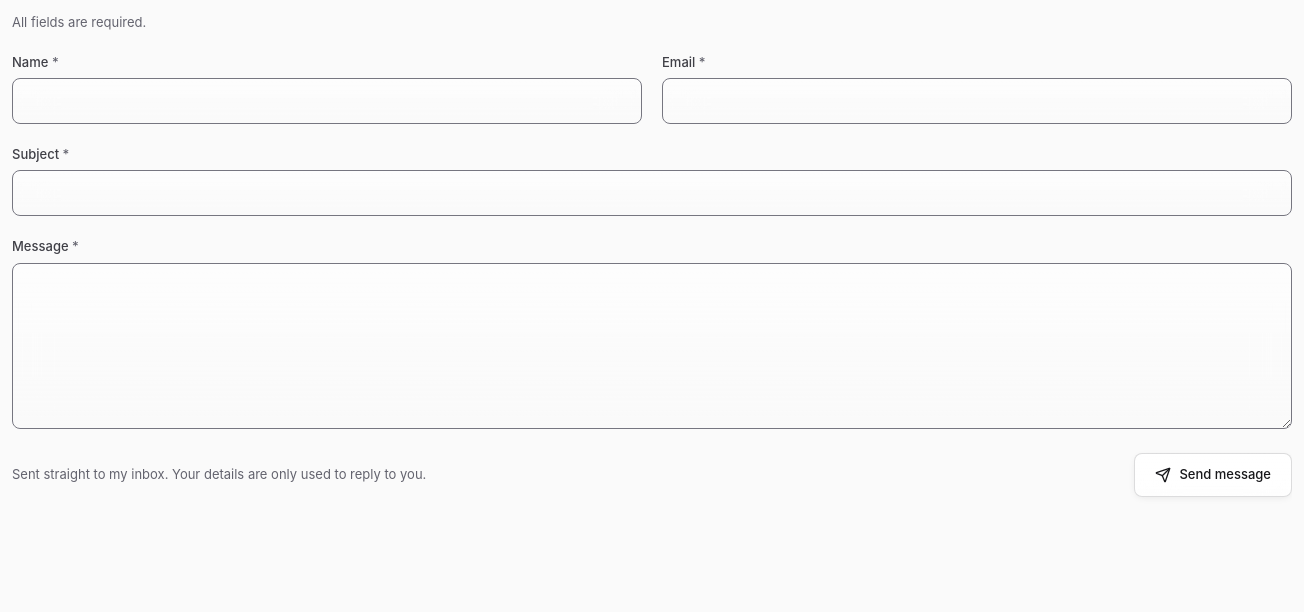
ContactForm › shows an error and keeps the message when sending fails
Type "Ada Lovelace" into the field labelled "Name *" at point(327, 101), box left=12, top=78, right=642, bottom=124
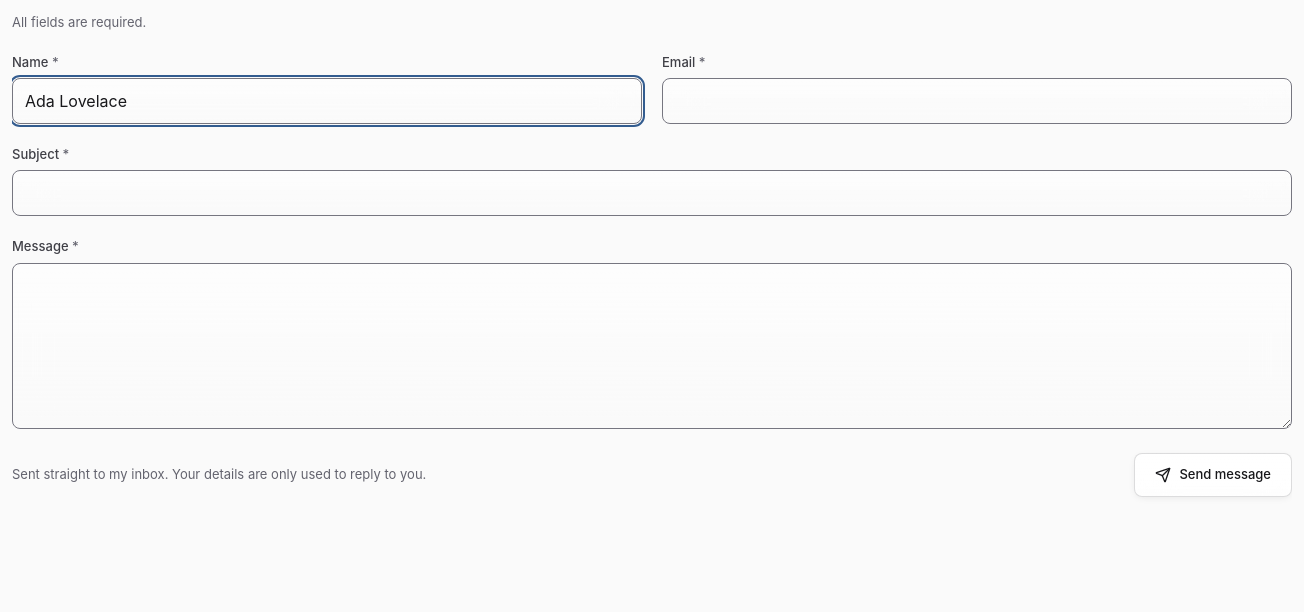
Type "ada@example.com" into the field labelled "Email *" at point(977, 101), box left=662, top=78, right=1292, bottom=124
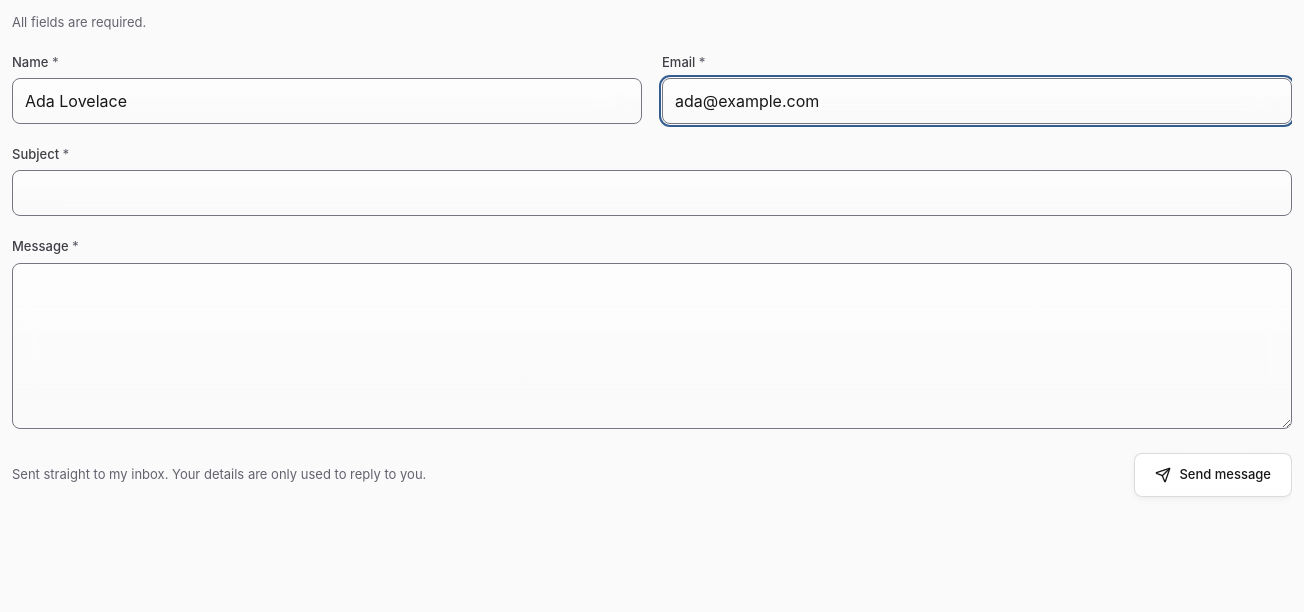
Type "Project" into the field labelled "Subject *" at point(652, 193), box left=12, top=170, right=1292, bottom=216
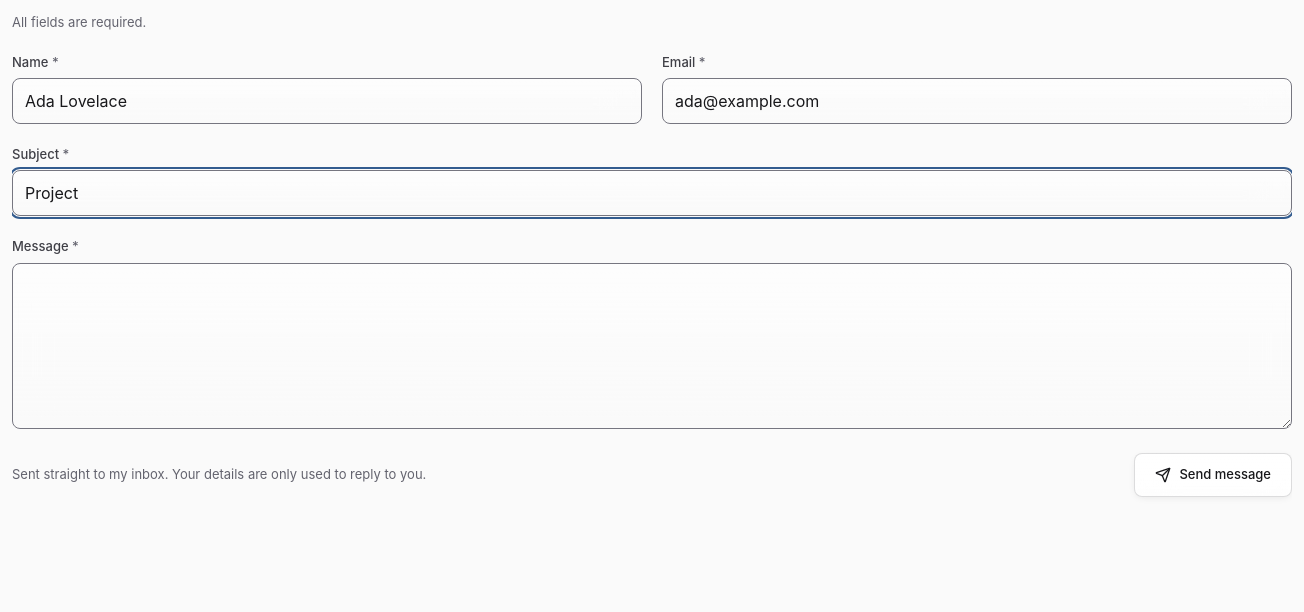
Type "I would like to discuss a project." into the text box labelled "Message *" at point(652, 346), box left=12, top=263, right=1292, bottom=429
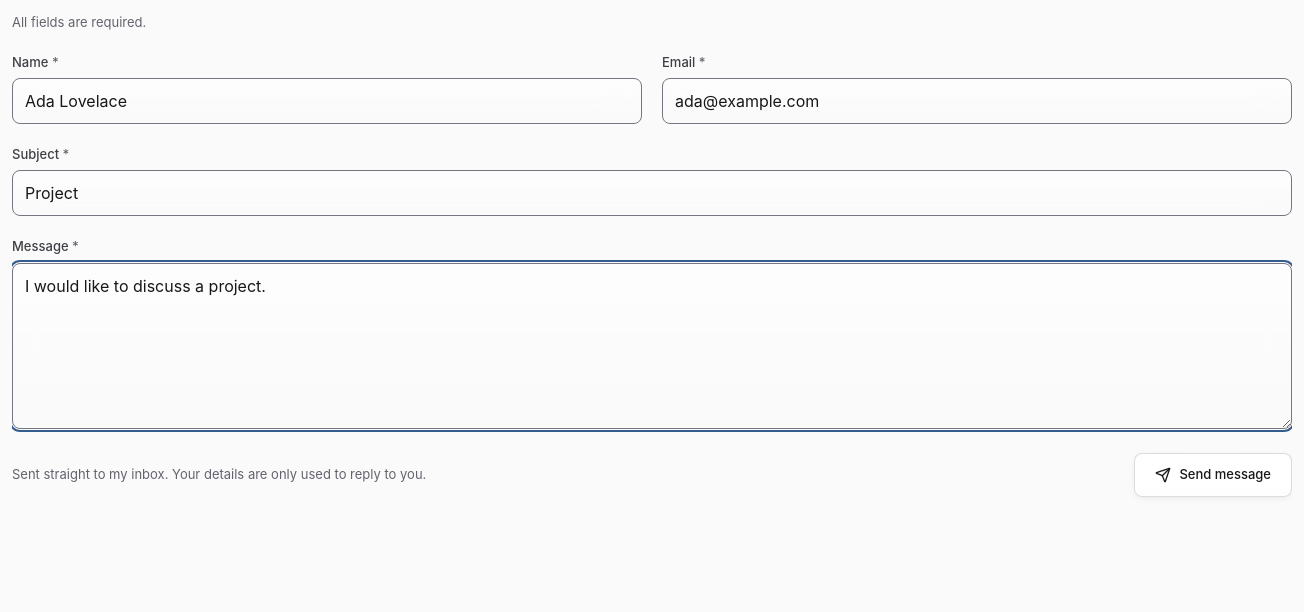
Click the button "Send message" at point(1213, 475), box left=1134, top=453, right=1292, bottom=497
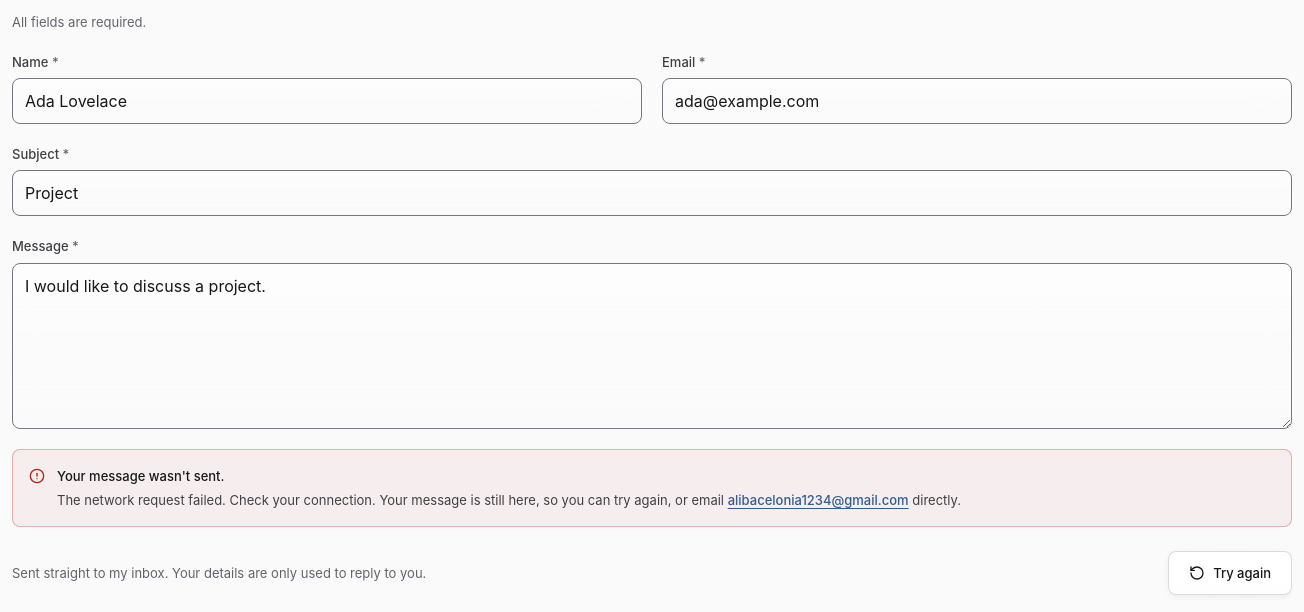
Expected: the message shows "wasn.t sent", left=57, top=468, right=224, bottom=484
